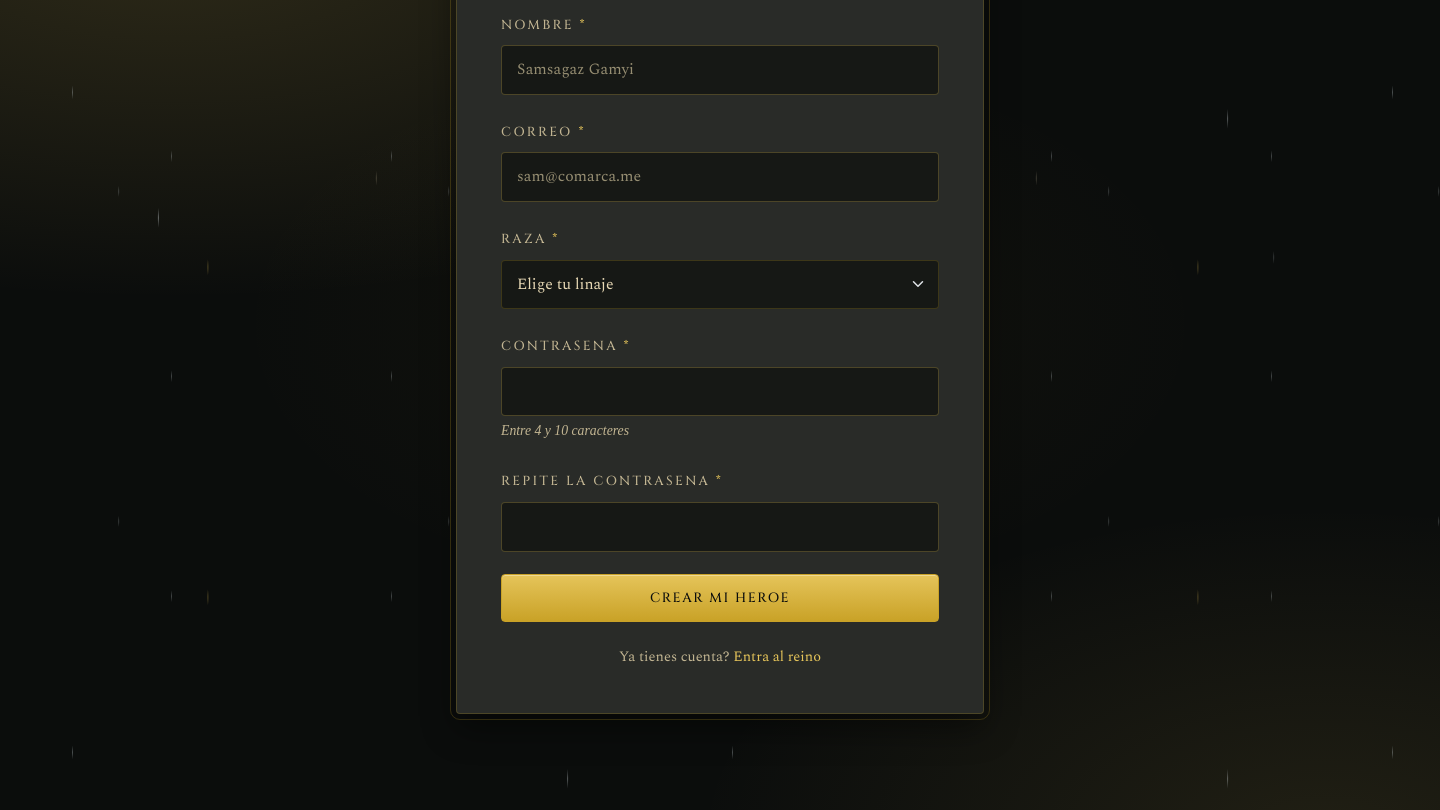
Scenario: Registro › validacion › marca todos los campos al enviar el formulario vacio
(page scrolled)
What coordinates should you click on to do the following:
click the button "Crear mi heroe"
I would click on:
 (720, 598)
Its box is [501,574,939,622].
(page scrolled)
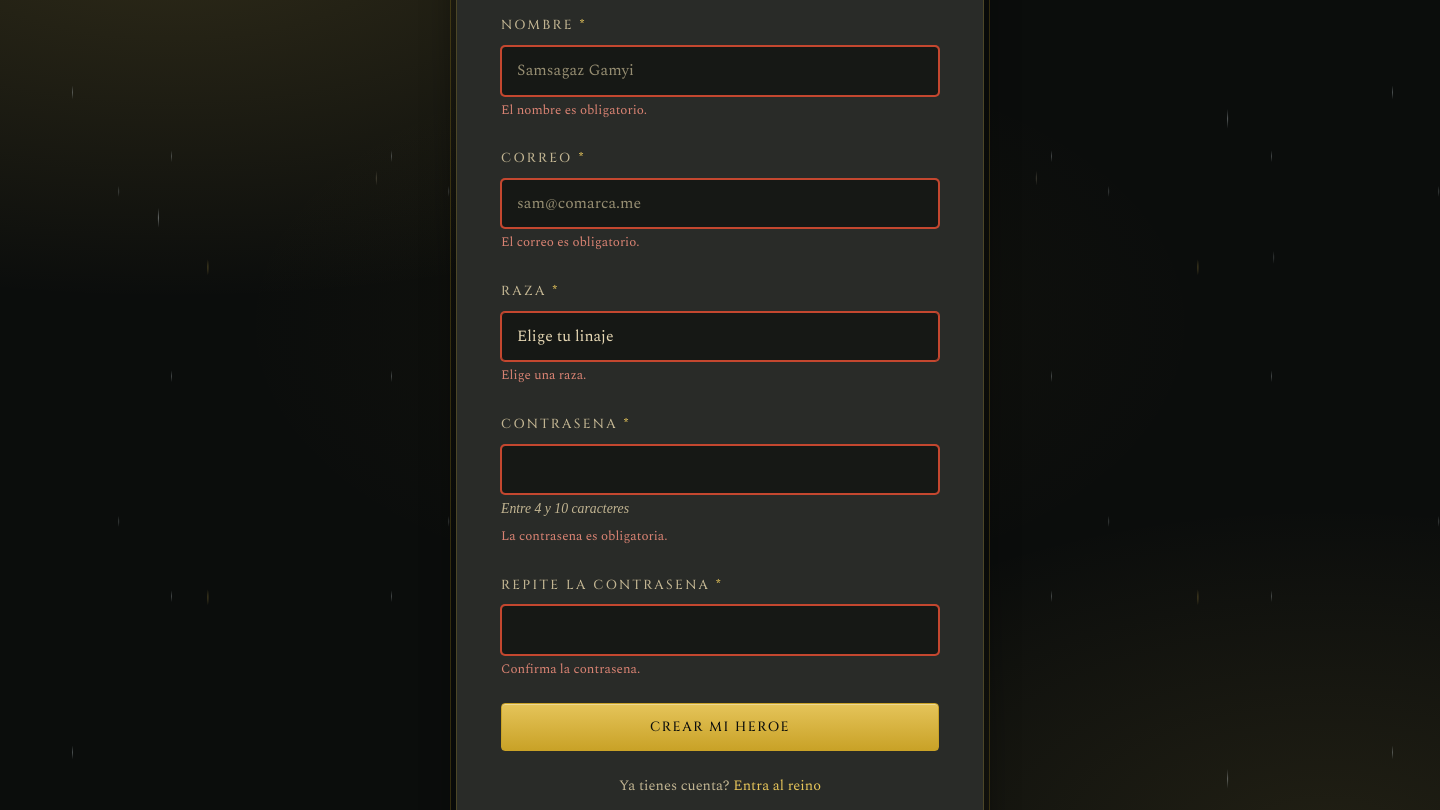
Expected: the text "El nombre es obligatorio." is shown, [501,100,647,120]
Expected: the text "El correo es obligatorio." is shown, [501,232,639,252]
Expected: the text "Elige una raza." is shown, [501,365,586,385]
